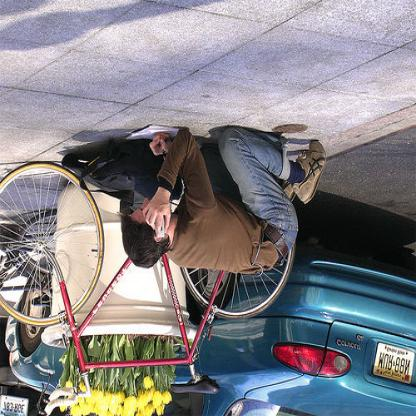bicycle: (1, 159, 298, 416)
car: (4, 236, 416, 416)
person: (119, 126, 328, 280)
